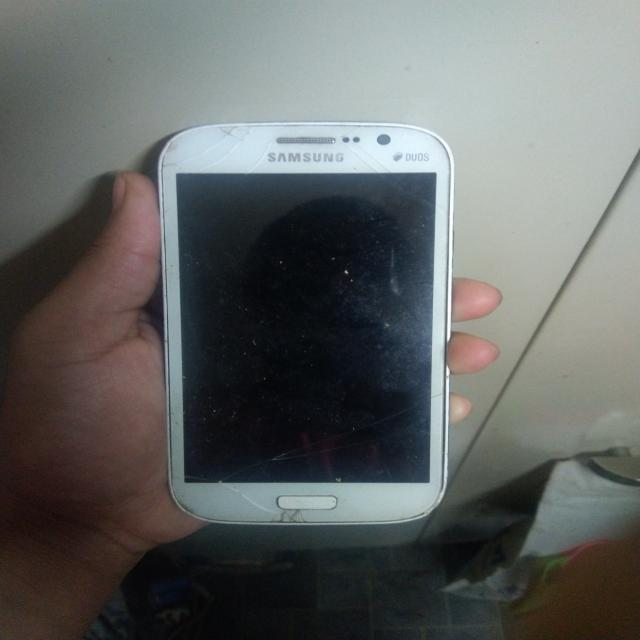Crack: (169, 127, 386, 211), (182, 486, 343, 532)
